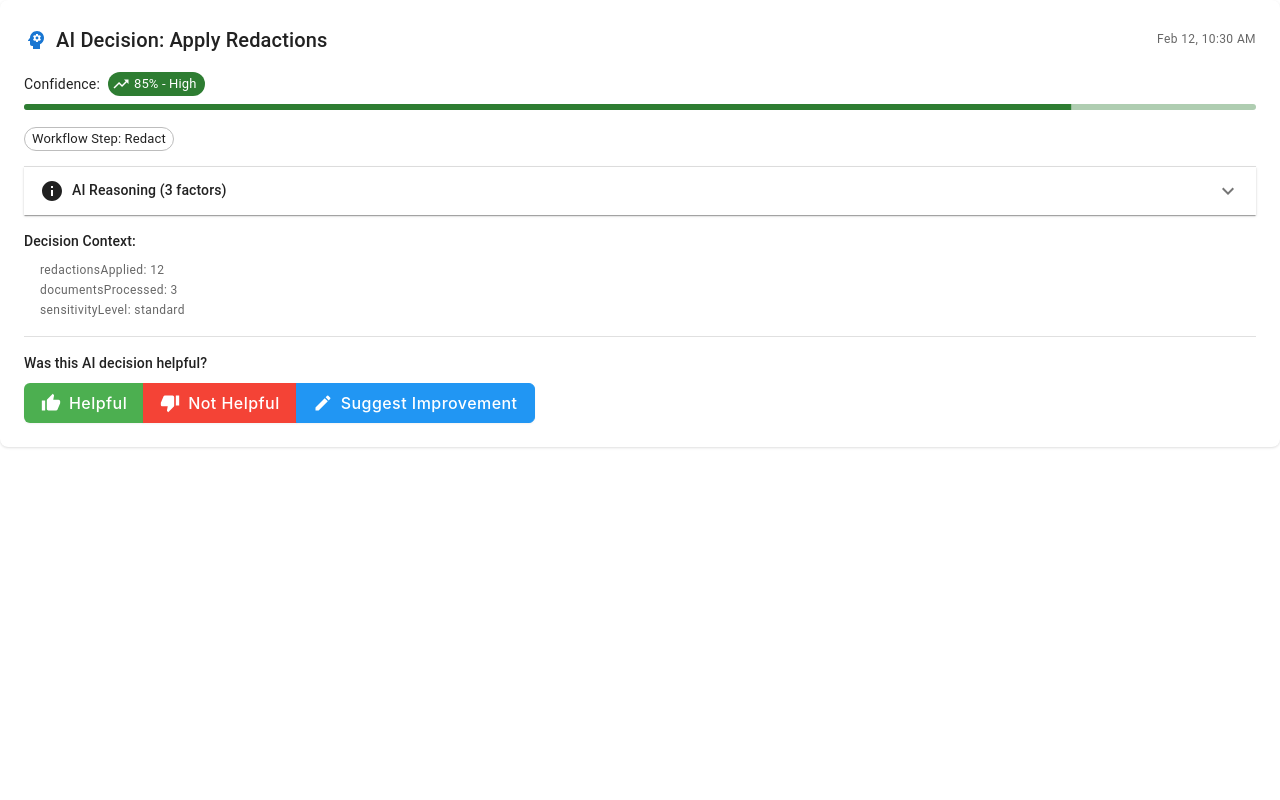
Test: AIDecisionTransparency › Feedback Dialogs › opens negative feedback dialog
The image size is (1280, 800).
What coordinates should you click on to do the following:
click the button "Not Helpful"
I would click on:
 (220, 403)
Its box is [143,383,297,423].
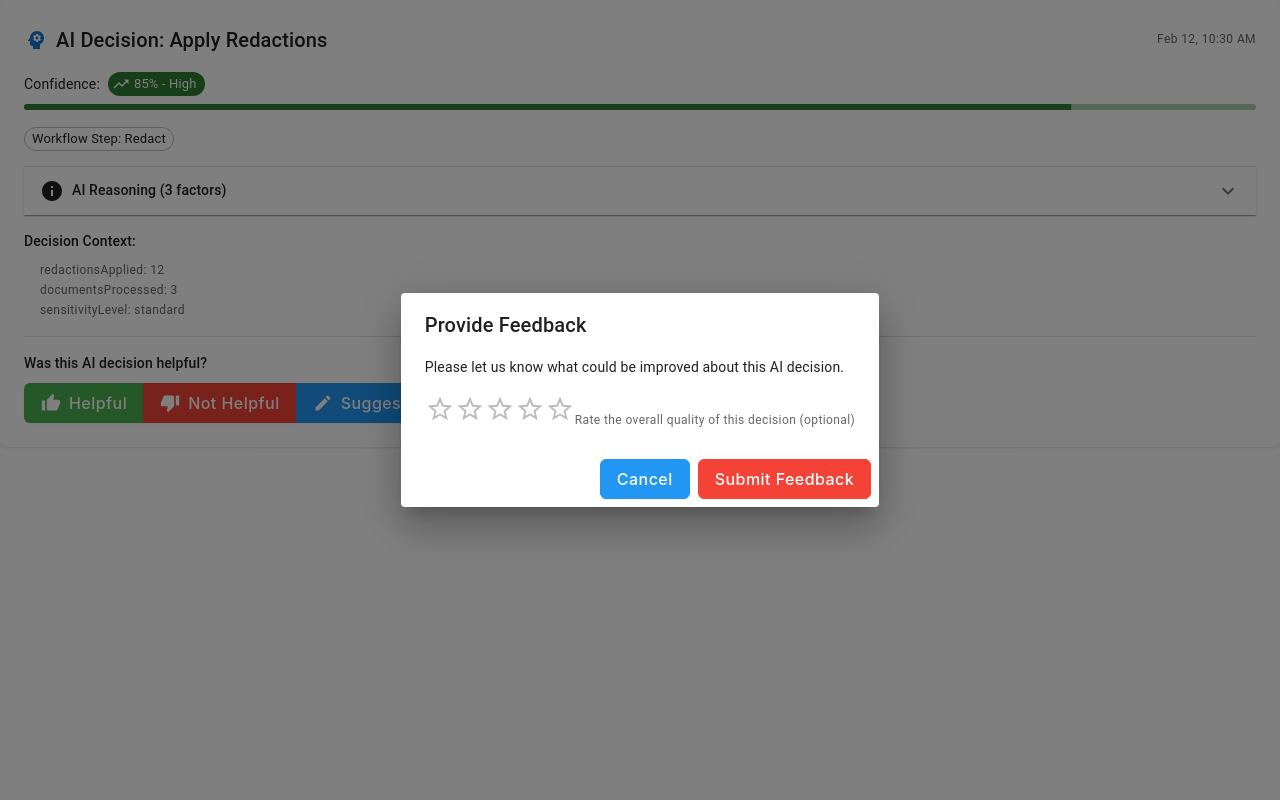
expect the heading "Provide Feedback" is shown: met, box [425,314,586,338]
